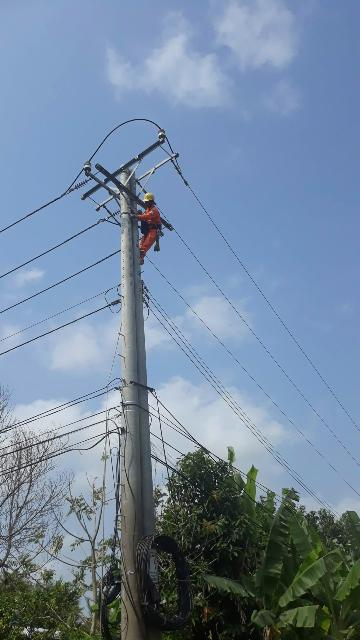gloves: (125, 213, 139, 221)
harness: (146, 223, 165, 234)
helmet: (141, 192, 157, 203)
